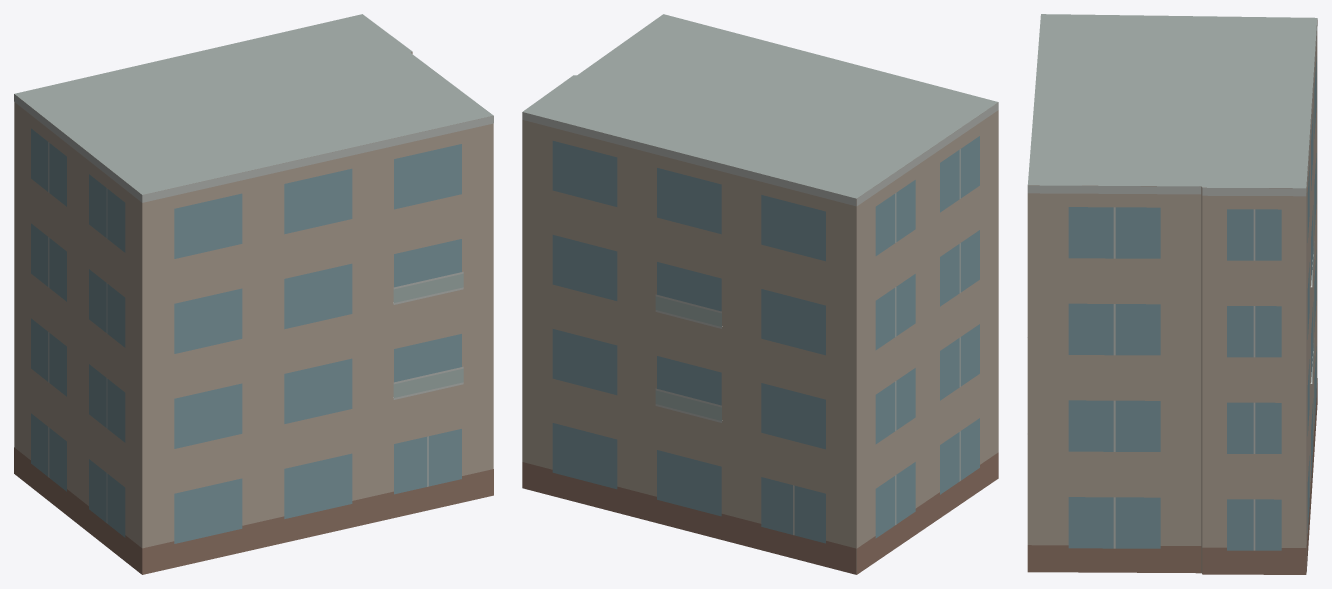
The model's file is survey-upis-32703840.glb.
3 views of the same model, side by side, from view 1: azimuth 30°, elevation 25°; view 2: azimuth 150°, elevation 25°; view 3: azimuth 270°, elevation 25° (orthographic). The views are drawn at different scales.
Parts seen in each view (by area): view 1: survey-upis-32703840.tmp; view 2: survey-upis-32703840.tmp; view 3: survey-upis-32703840.tmp.
Part boxes in pixels (box(x1,y1,x2,y2)): survey-upis-32703840.tmp: box(14, 14, 493, 574); survey-upis-32703840.tmp: box(522, 14, 998, 574); survey-upis-32703840.tmp: box(1027, 14, 1317, 574).
Bounding box in the file's own units: 11.35 × 11.74 × 7.98.
